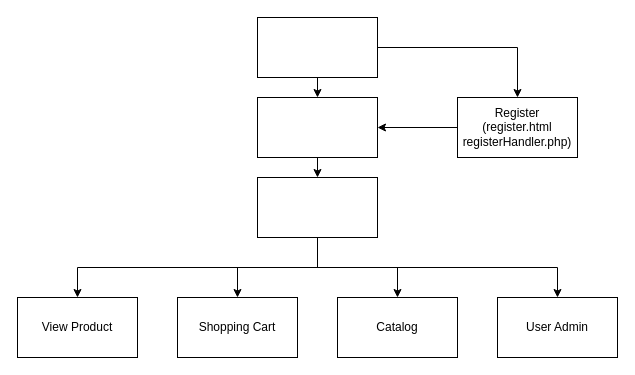
This 635x375 diagram has some shape labels left out. Here are the shapes that lost their labels. From the top down, the box of each, then its label:
(256, 16, 378, 78): Hompage (index.html)
(256, 96, 378, 158): Login (login.html loginHandler.php)
(256, 176, 378, 238): UserHome
